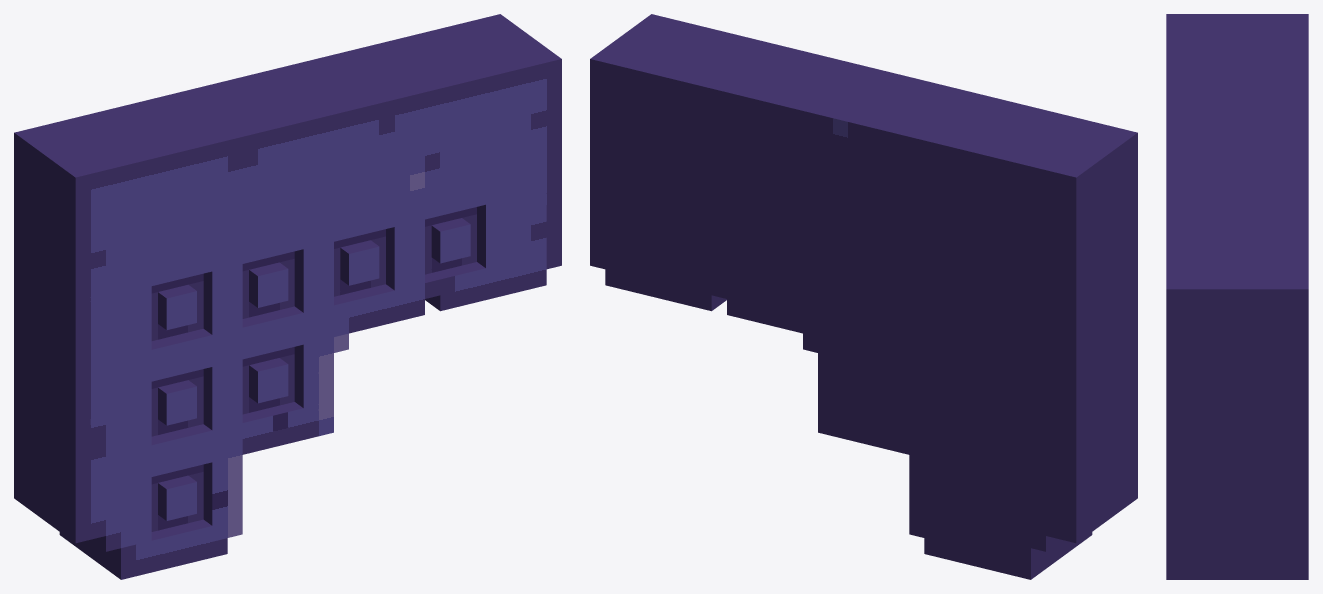
The model's file is 32_bit_door_brokenao.fezao.glb.
The picture shows the model from 3 angles, left to right: view 1: azimuth 30°, elevation 25°; view 2: azimuth 150°, elevation 25°; view 3: azimuth 270°, elevation 25°; orthographic projection. The views are drawn at different scales.
Parts seen in each view (by area): view 1: 32_BIT_DOOR_BROKENAO; view 2: 32_BIT_DOOR_BROKENAO; view 3: 32_BIT_DOOR_BROKENAO.
Boxes of the visible parts, box(x1,y1,x2,y2) form: 32_BIT_DOOR_BROKENAO: box(14, 14, 561, 579); 32_BIT_DOOR_BROKENAO: box(590, 14, 1137, 579); 32_BIT_DOOR_BROKENAO: box(1166, 14, 1308, 579).
Bounding box in the file's own units: 2 × 1.62 × 0.4375.
1 material, 1 textured.
